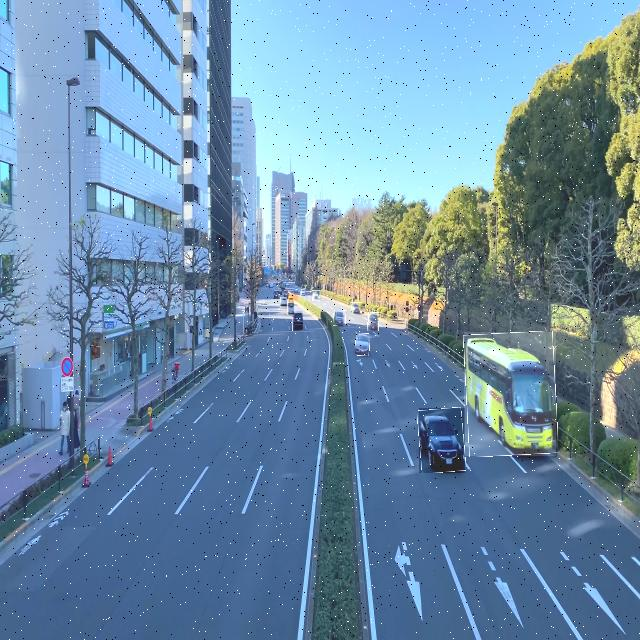Bus: (464, 332, 556, 456)
Car: (419, 408, 465, 473), (356, 334, 370, 356), (292, 311, 303, 331), (368, 312, 379, 331), (334, 310, 346, 326), (350, 302, 362, 315), (287, 301, 294, 315), (312, 290, 320, 301), (280, 298, 287, 310)
